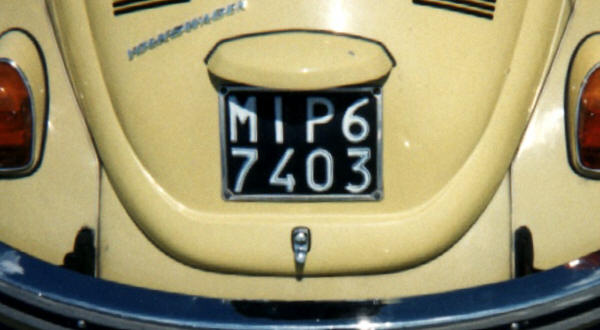license_plate: (222, 88, 386, 203)
